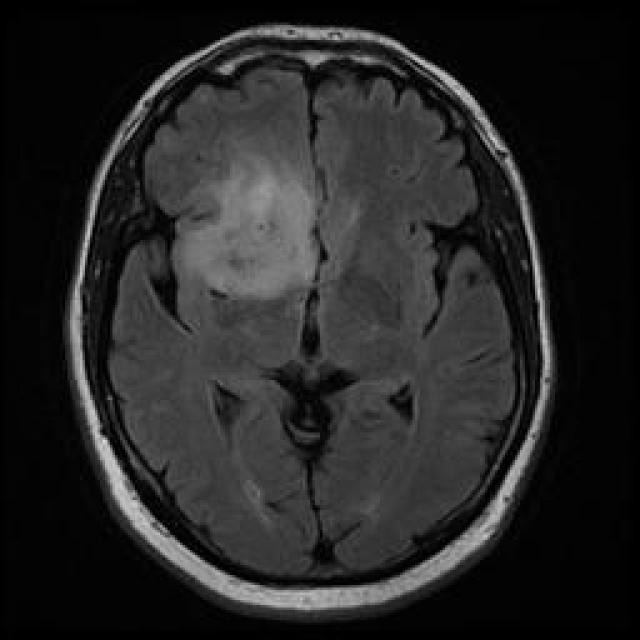Tumor-Cell: (151, 166, 389, 325)
